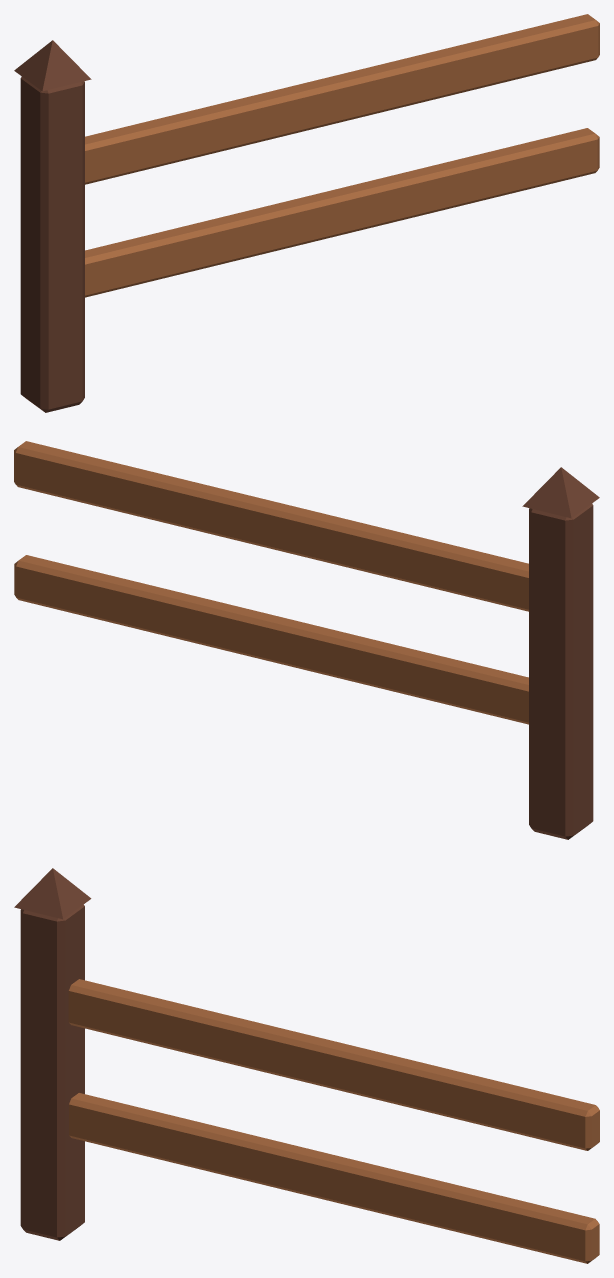
The model's file is Fence_Wood_2m.fbx.
The picture shows the model from 3 angles, top to bottom: view 1: azimuth 30°, elevation 25°; view 2: azimuth 150°, elevation 25°; view 3: azimuth 330°, elevation 25°; orthographic projection.
Visible parts, largest first — view 1: Fence_Wood_2m; view 2: Fence_Wood_2m; view 3: Fence_Wood_2m.
Boxes of the visible parts, bbox=[...] form: Fence_Wood_2m: bbox=[14, 14, 599, 412]; Fence_Wood_2m: bbox=[14, 441, 599, 839]; Fence_Wood_2m: bbox=[14, 868, 599, 1263].
Bounding box in the file's own units: 2.1 × 1.28 × 0.1817.
